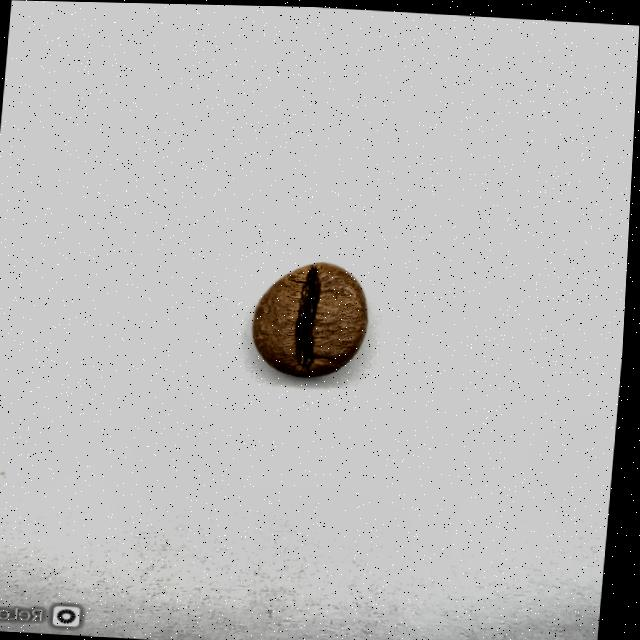Good bean: (251, 256, 377, 379)
